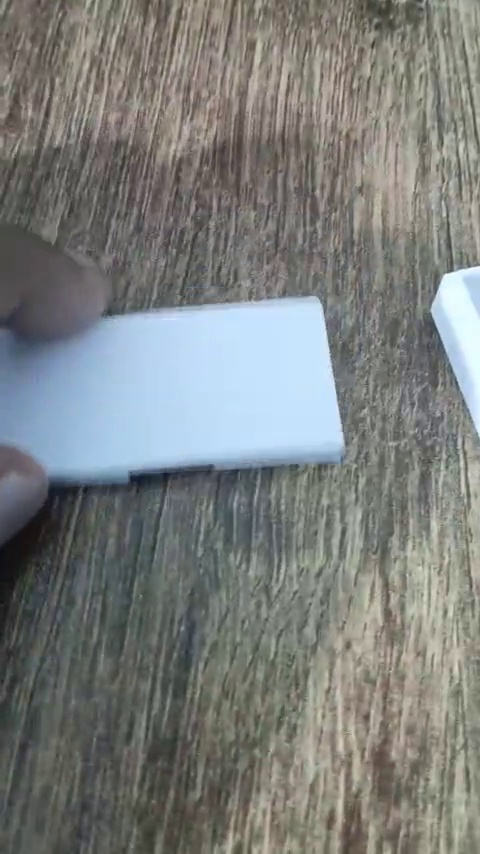lid: (0, 294, 345, 489)
